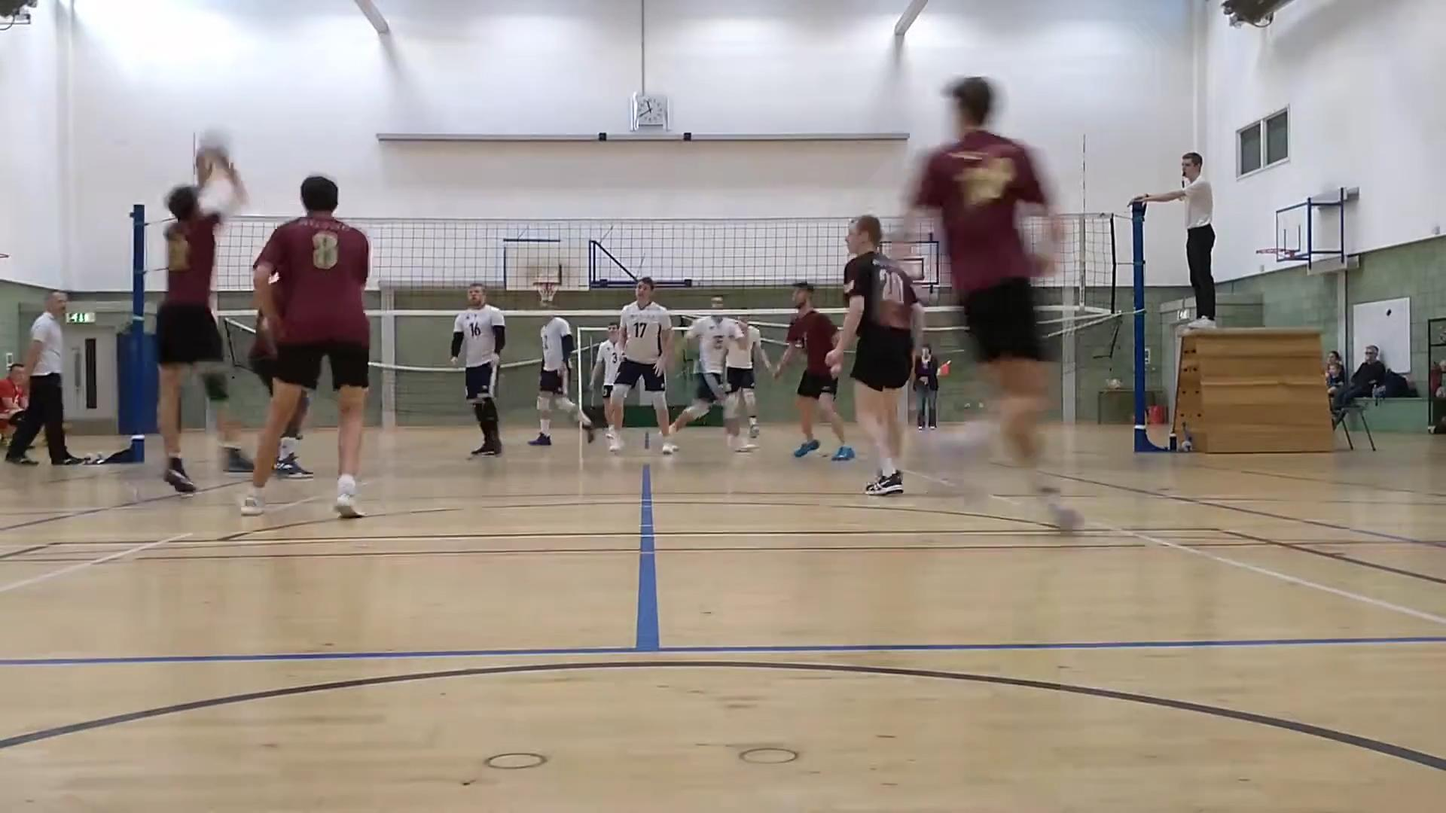Dig: (150, 147, 251, 492)
Player: (910, 77, 1080, 530), (241, 176, 370, 518), (827, 215, 923, 495), (773, 282, 855, 460), (663, 297, 755, 453), (609, 276, 673, 452), (450, 284, 505, 455), (529, 315, 595, 446), (726, 319, 772, 438), (590, 322, 621, 440), (276, 391, 313, 479)
